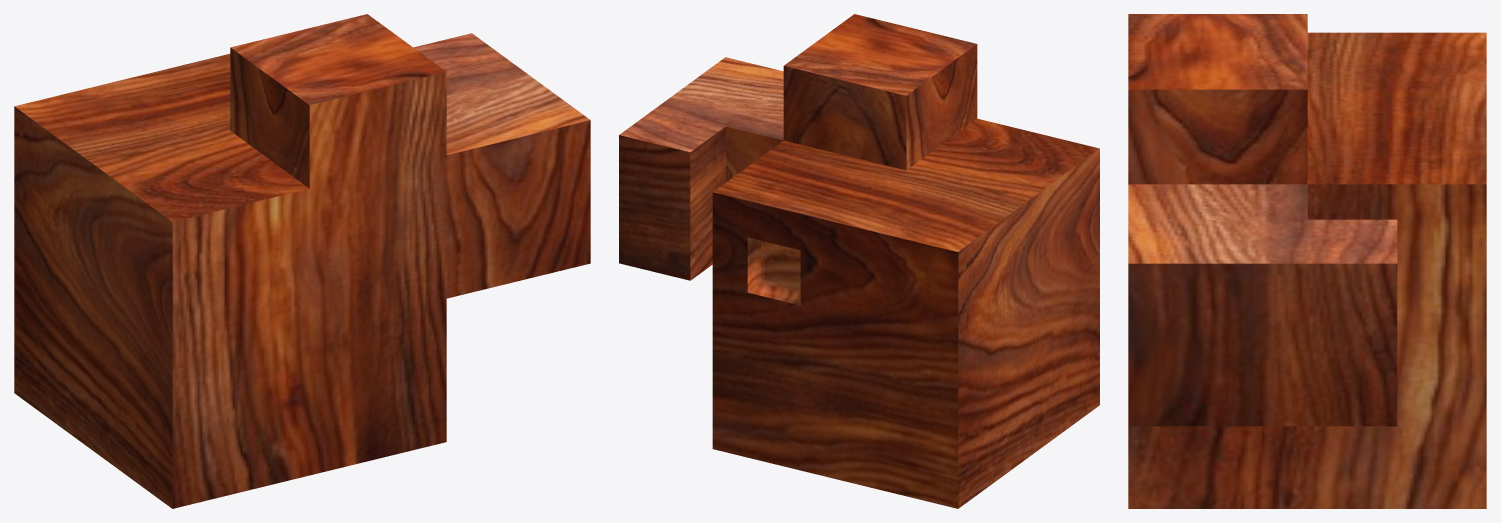
3 renders of one model, left to right at view 1: azimuth 30°, elevation 25°; view 2: azimuth 150°, elevation 25°; view 3: azimuth 270°, elevation 25°, orthographic. The views are drawn at different scales.
Visible parts, largest first — view 1: pCube1; view 2: pCube1; view 3: pCube1.
Part boxes in pixels (box(x1,y1,x2,y2)): pCube1: box(14, 14, 590, 508); pCube1: box(619, 14, 1099, 508); pCube1: box(1128, 14, 1486, 508).
Bounding box in the file's own units: 11.31 × 9.57 × 7.41.
1 material, 1 textured.
